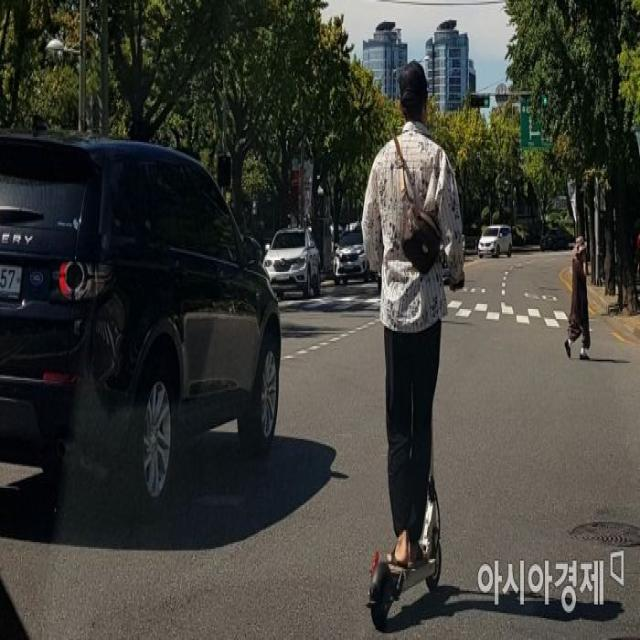non-helmet: (358, 57, 459, 635)
